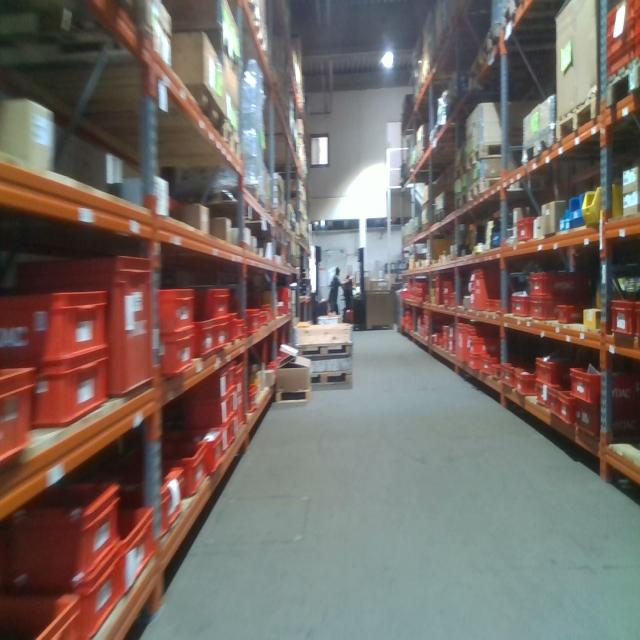pallet: (58, 96, 223, 150), (141, 119, 242, 171), (146, 27, 242, 81), (464, 20, 503, 96), (555, 92, 602, 146), (467, 136, 524, 172), (604, 59, 638, 111), (500, 0, 551, 32), (467, 174, 516, 204), (523, 128, 556, 171), (295, 342, 352, 358), (311, 372, 352, 386), (453, 155, 468, 184), (454, 189, 469, 217), (432, 213, 450, 227)
pallet_truck: (340, 242, 372, 326), (313, 244, 336, 318)
small_load_carrier: (31, 248, 157, 416), (6, 481, 122, 590), (3, 283, 106, 372), (36, 358, 111, 430), (108, 494, 156, 605), (114, 468, 188, 535), (2, 587, 85, 640), (0, 360, 34, 464), (568, 360, 637, 411), (150, 430, 223, 478), (83, 552, 124, 634), (576, 397, 637, 445), (153, 442, 205, 497), (150, 323, 198, 382), (184, 419, 234, 465), (527, 269, 586, 301), (468, 264, 495, 325), (165, 285, 198, 334), (186, 369, 231, 401), (184, 395, 233, 421), (194, 288, 231, 321), (609, 293, 636, 336), (479, 358, 510, 394), (601, 46, 633, 79), (535, 359, 566, 391), (530, 298, 567, 323), (196, 323, 218, 364), (556, 394, 581, 430), (556, 301, 588, 326), (604, 33, 628, 65), (517, 365, 538, 399), (604, 16, 627, 46), (466, 334, 495, 355), (507, 295, 533, 318), (216, 316, 233, 351), (606, 3, 627, 29), (516, 221, 540, 243), (245, 307, 261, 340), (535, 380, 552, 411), (238, 357, 244, 435), (458, 321, 469, 362), (549, 386, 560, 419), (502, 360, 513, 393), (232, 311, 243, 342), (466, 355, 480, 376), (227, 360, 237, 388), (491, 364, 504, 384), (249, 385, 258, 412), (232, 382, 238, 420), (630, 20, 639, 42), (488, 294, 495, 318), (632, 38, 639, 62), (442, 292, 453, 307), (442, 278, 452, 294), (448, 340, 456, 358), (630, 2, 639, 18), (450, 293, 461, 305), (448, 322, 457, 336), (443, 323, 450, 338), (494, 299, 502, 312), (637, 300, 639, 342), (443, 338, 448, 353)
